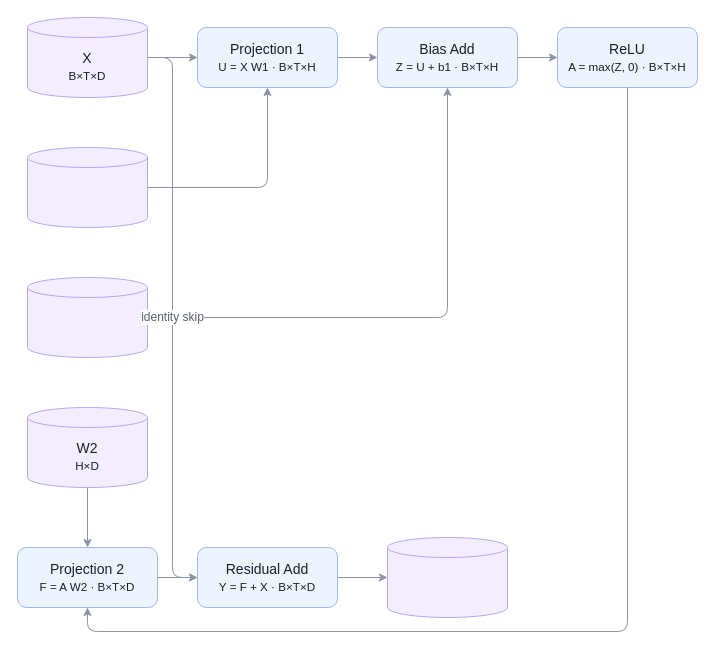
Image size: 715x657. Some labels were removed from this diagram. The shapes that lost their labels are listed below. From the top down, each one's box as (x1, y1, x2, y2) in pixels, then its label:
(26, 146, 148, 228): W1 D×H
(26, 276, 148, 358): b1 H
(386, 536, 508, 618): Y B×T×D
